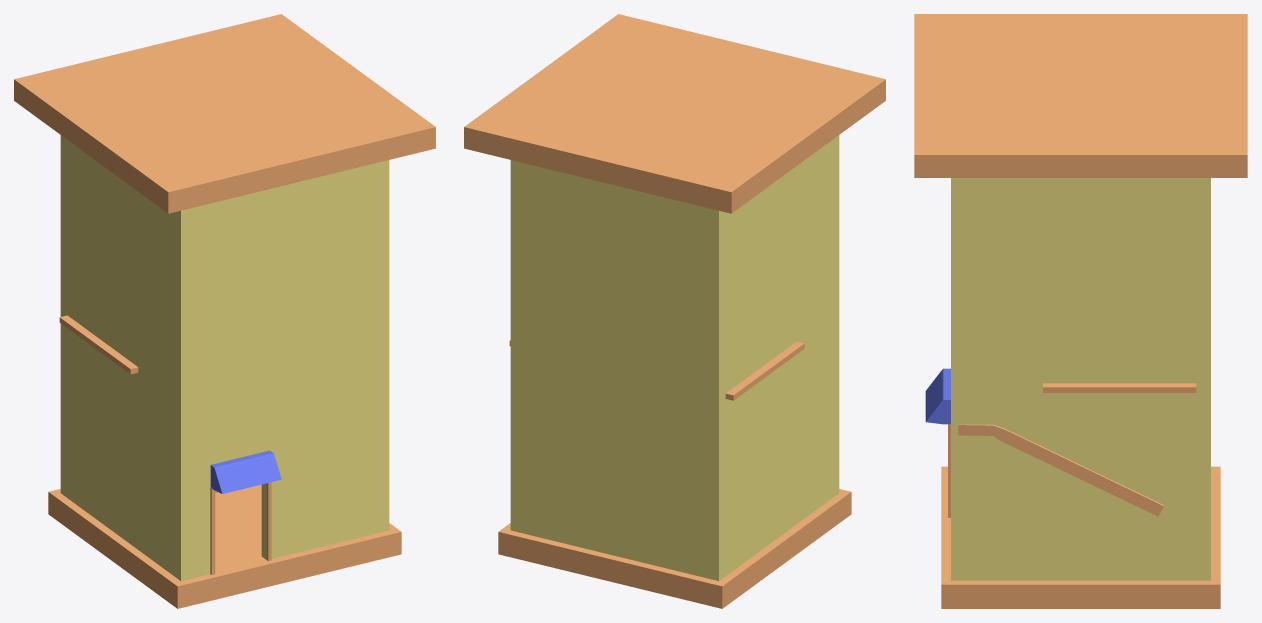
Rendered from tower.fbx.
The picture shows the model from 3 angles, left to right: view 1: azimuth 30°, elevation 25°; view 2: azimuth 150°, elevation 25°; view 3: azimuth 270°, elevation 25°; orthographic projection. The views are drawn at different scales.
Parts seen in each view (by area): view 1: Building, Cube.002, Cube.003, Door.001, Cube.001, DoorFrame; view 2: Building, Cube.002, Cube.003, Cube.001; view 3: Building, Cube.002, Cube.003, Ramp, Cube.001, Door.001.
Part boxes in pixels (left/top/right/bottom): Building: left=60, top=135, right=389, bottom=580; Cube.002: left=14, top=14, right=435, bottom=213; Cube.003: left=48, top=484, right=401, bottom=608; Door.001: left=210, top=450, right=281, bottom=493; Cube.001: left=59, top=315, right=138, bottom=374; DoorFrame: left=210, top=482, right=271, bottom=574; Building: left=510, top=135, right=839, bottom=580; Cube.002: left=464, top=14, right=885, bottom=213; Cube.003: left=498, top=489, right=851, bottom=608; Cube.001: left=509, top=340, right=804, bottom=400; Building: left=951, top=178, right=1210, bottom=580; Cube.002: left=914, top=14, right=1247, bottom=177; Cube.003: left=941, top=466, right=1220, bottom=608; Ramp: left=958, top=424, right=1164, bottom=516; Cube.001: left=1043, top=383, right=1196, bottom=392; Door.001: left=925, top=368, right=950, bottom=424.
Size of the model in its own units: 1511 by 2327 by 1511.
